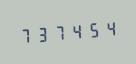five: (86, 18, 102, 40)
four: (69, 19, 85, 42), (103, 16, 119, 39)
seven: (17, 24, 33, 46), (52, 21, 68, 43)
three: (34, 22, 50, 45)
